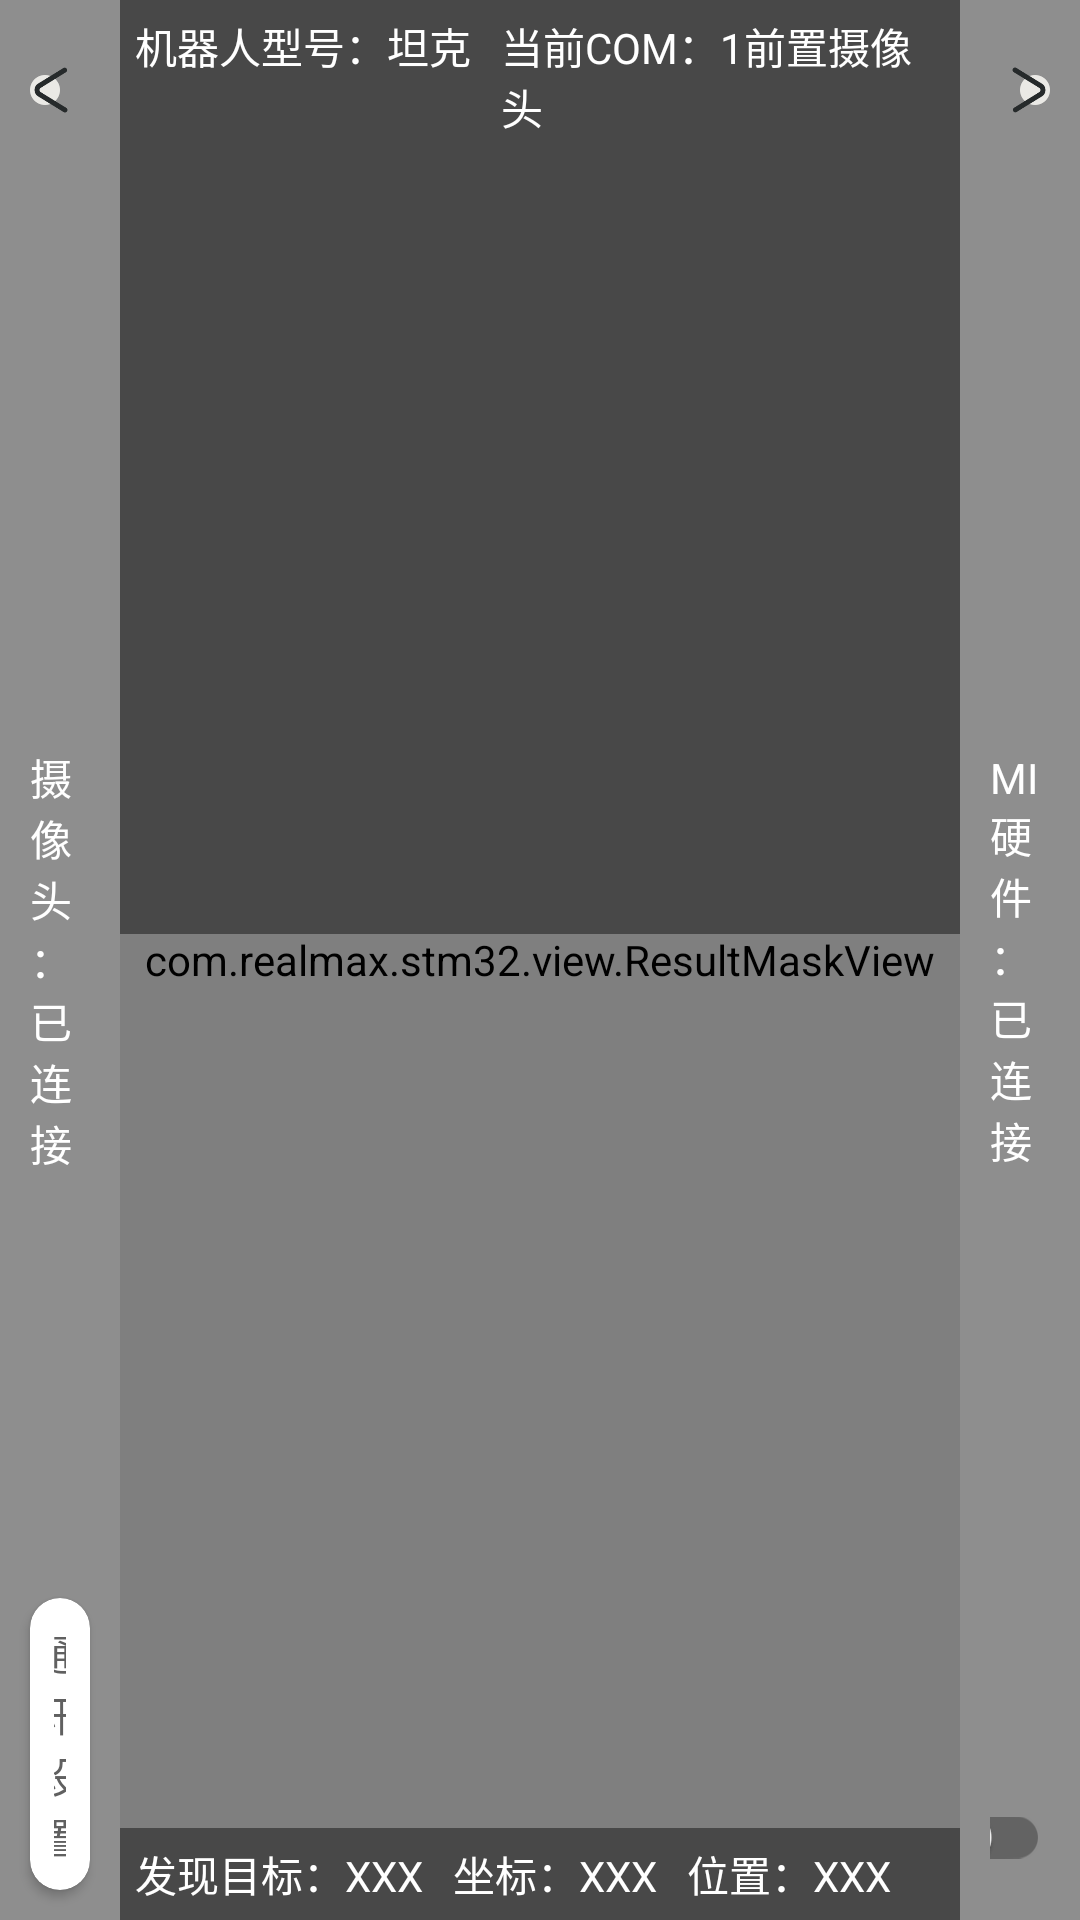

Icons on this 1080px x 1920px Android screen, each with the point to tap as point (x, y):
pic left: point (49, 90)
pic right: point (1031, 90)
